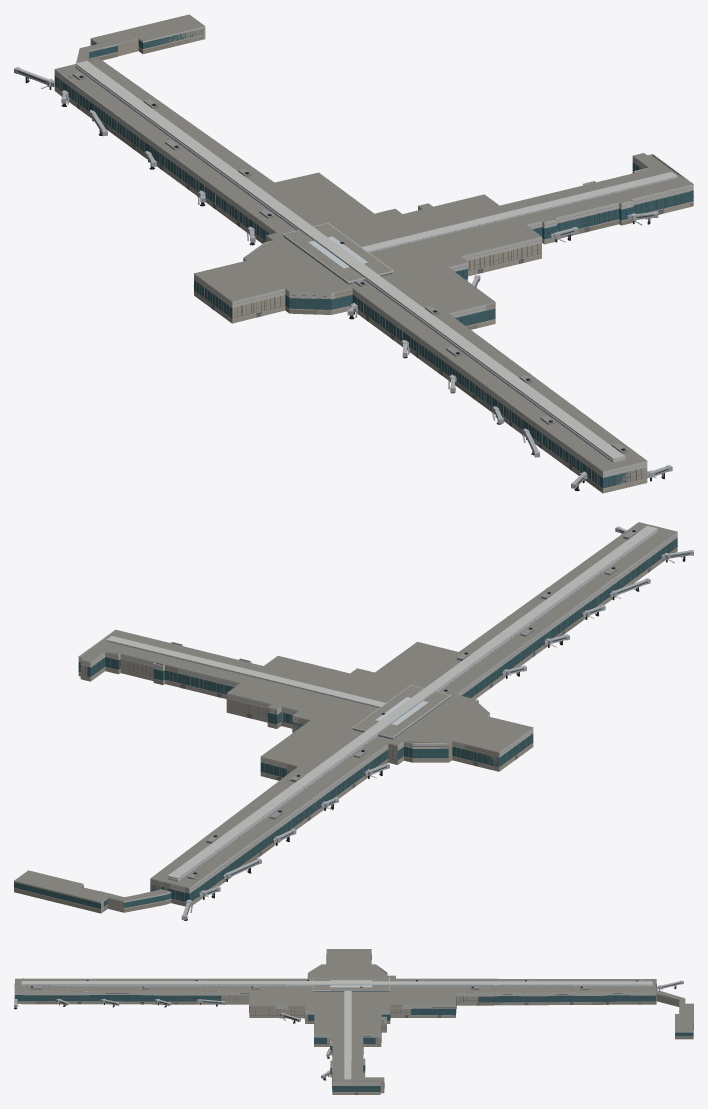
File: atl-concourse-e.glb
3 renders of one model, top to bottom at view 1: azimuth 30°, elevation 25°; view 2: azimuth 150°, elevation 25°; view 3: azimuth 270°, elevation 25°, orthographic. The views are drawn at different scales.
Visible parts, largest first — view 1: lod2_lm_stone, lod0_lm_metal, lod0_bld_glass, lod1_lm_stone, lod2_bld_wall, lod0_bld_roof, lod0_bld_wall, lod1_lm_lit, lod2_lm_lit, lod1_bld_glass, lod0_lm_lit, lod0_lm_stone (+1 smaller); view 2: lod2_lm_stone, lod0_lm_metal, lod0_bld_glass, lod1_lm_stone, lod0_bld_roof, lod2_bld_wall, lod0_bld_wall, lod1_lm_lit, lod1_bld_glass, lod0_lm_stone, lod2_lm_lit, lod0_lm_lit; view 3: lod2_lm_stone, lod0_lm_metal, lod0_bld_glass, lod1_lm_stone, lod2_bld_wall, lod0_bld_wall, lod0_bld_roof, lod2_lm_lit, lod1_lm_lit, lod0_lm_stone, lod0_lm_lit, lod0_lm_glow.
Part boxes in pixels (bbox=[...]): lod2_lm_stone: bbox=[55, 51, 693, 471]; lod0_lm_metal: bbox=[14, 26, 693, 489]; lod0_bld_glass: bbox=[54, 40, 693, 487]; lod1_lm_stone: bbox=[15, 26, 676, 491]; lod2_bld_wall: bbox=[88, 28, 648, 487]; lod0_bld_roof: bbox=[76, 14, 392, 281]; lod0_bld_wall: bbox=[54, 47, 693, 493]; lod1_lm_lit: bbox=[75, 66, 676, 462]; lod2_lm_lit: bbox=[75, 64, 613, 459]; lod1_bld_glass: bbox=[143, 29, 638, 487]; lod0_lm_lit: bbox=[308, 192, 614, 268]; lod0_lm_stone: bbox=[55, 51, 693, 488]; lod2_lm_stone: bbox=[81, 522, 677, 894]; lod0_lm_metal: bbox=[14, 524, 693, 920]; lod0_bld_glass: bbox=[14, 538, 677, 908]; lod1_lm_stone: bbox=[27, 528, 689, 920]; lod0_bld_roof: bbox=[14, 685, 450, 901]; lod2_bld_wall: bbox=[14, 532, 676, 913]; lod0_bld_wall: bbox=[14, 548, 677, 913]; lod1_lm_lit: bbox=[160, 531, 657, 881]; lod1_bld_glass: bbox=[105, 539, 676, 891]; lod0_lm_stone: bbox=[14, 547, 677, 909]; lod2_lm_lit: bbox=[178, 529, 657, 879]; lod0_lm_lit: bbox=[107, 640, 427, 725]; lod2_lm_stone: bbox=[14, 949, 676, 1081]; lod0_lm_metal: bbox=[14, 954, 693, 1094]; lod0_bld_glass: bbox=[14, 991, 693, 1091]; lod1_lm_stone: bbox=[14, 956, 681, 1092]; lod2_bld_wall: bbox=[69, 963, 679, 1093]; lod0_bld_wall: bbox=[17, 1001, 693, 1094]; lod0_bld_roof: bbox=[97, 977, 693, 1031]; lod2_lm_lit: bbox=[22, 984, 652, 985]; lod1_lm_lit: bbox=[22, 985, 536, 986]; lod0_lm_stone: bbox=[18, 1001, 693, 1092]; lod0_lm_lit: bbox=[30, 980, 652, 987]; lod0_lm_glow: bbox=[24, 995, 655, 1085].
Bounding box in the file's own units: 356 × 19.1 × 768.
